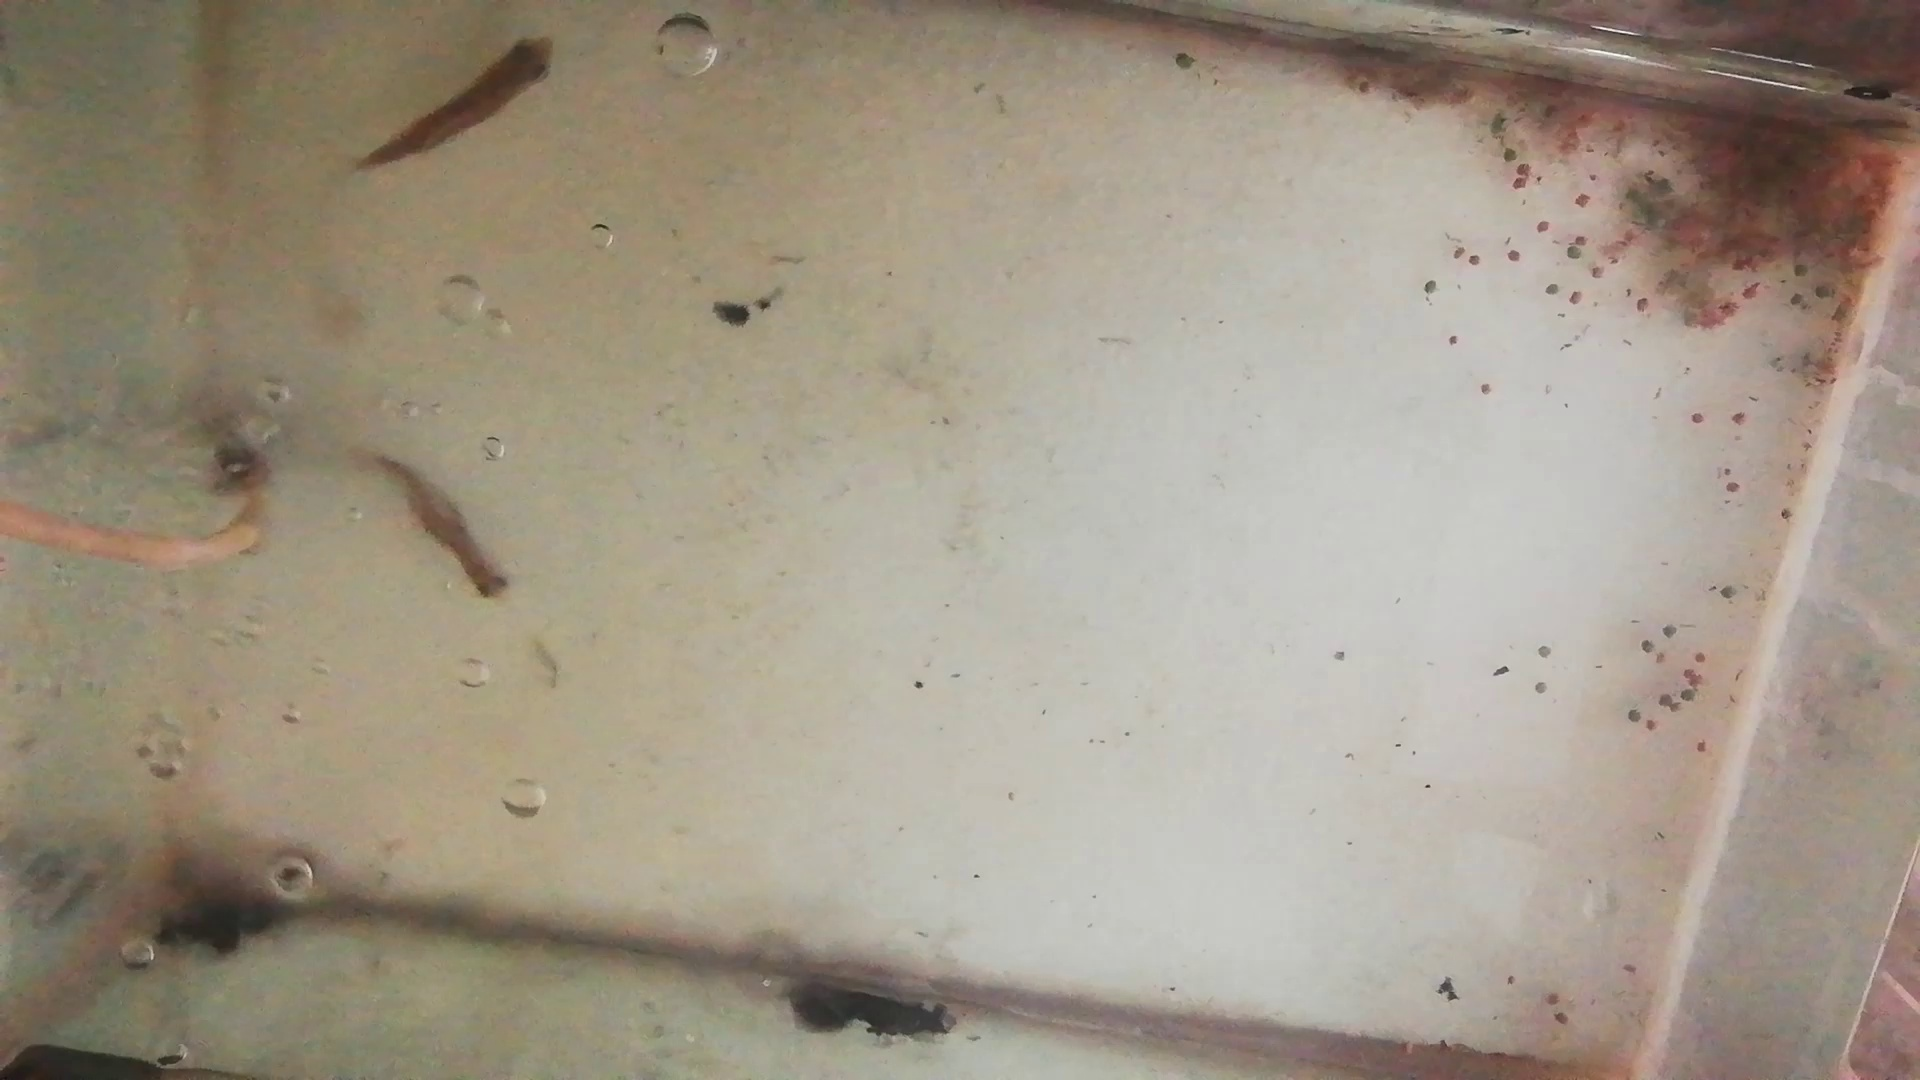fish: (352, 34, 560, 164), (363, 451, 516, 599)
